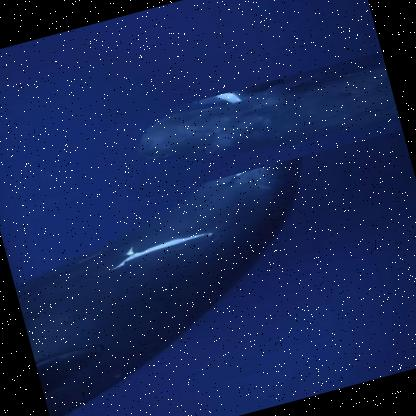sperm_whale: (0, 142, 377, 415), (108, 50, 402, 202)
